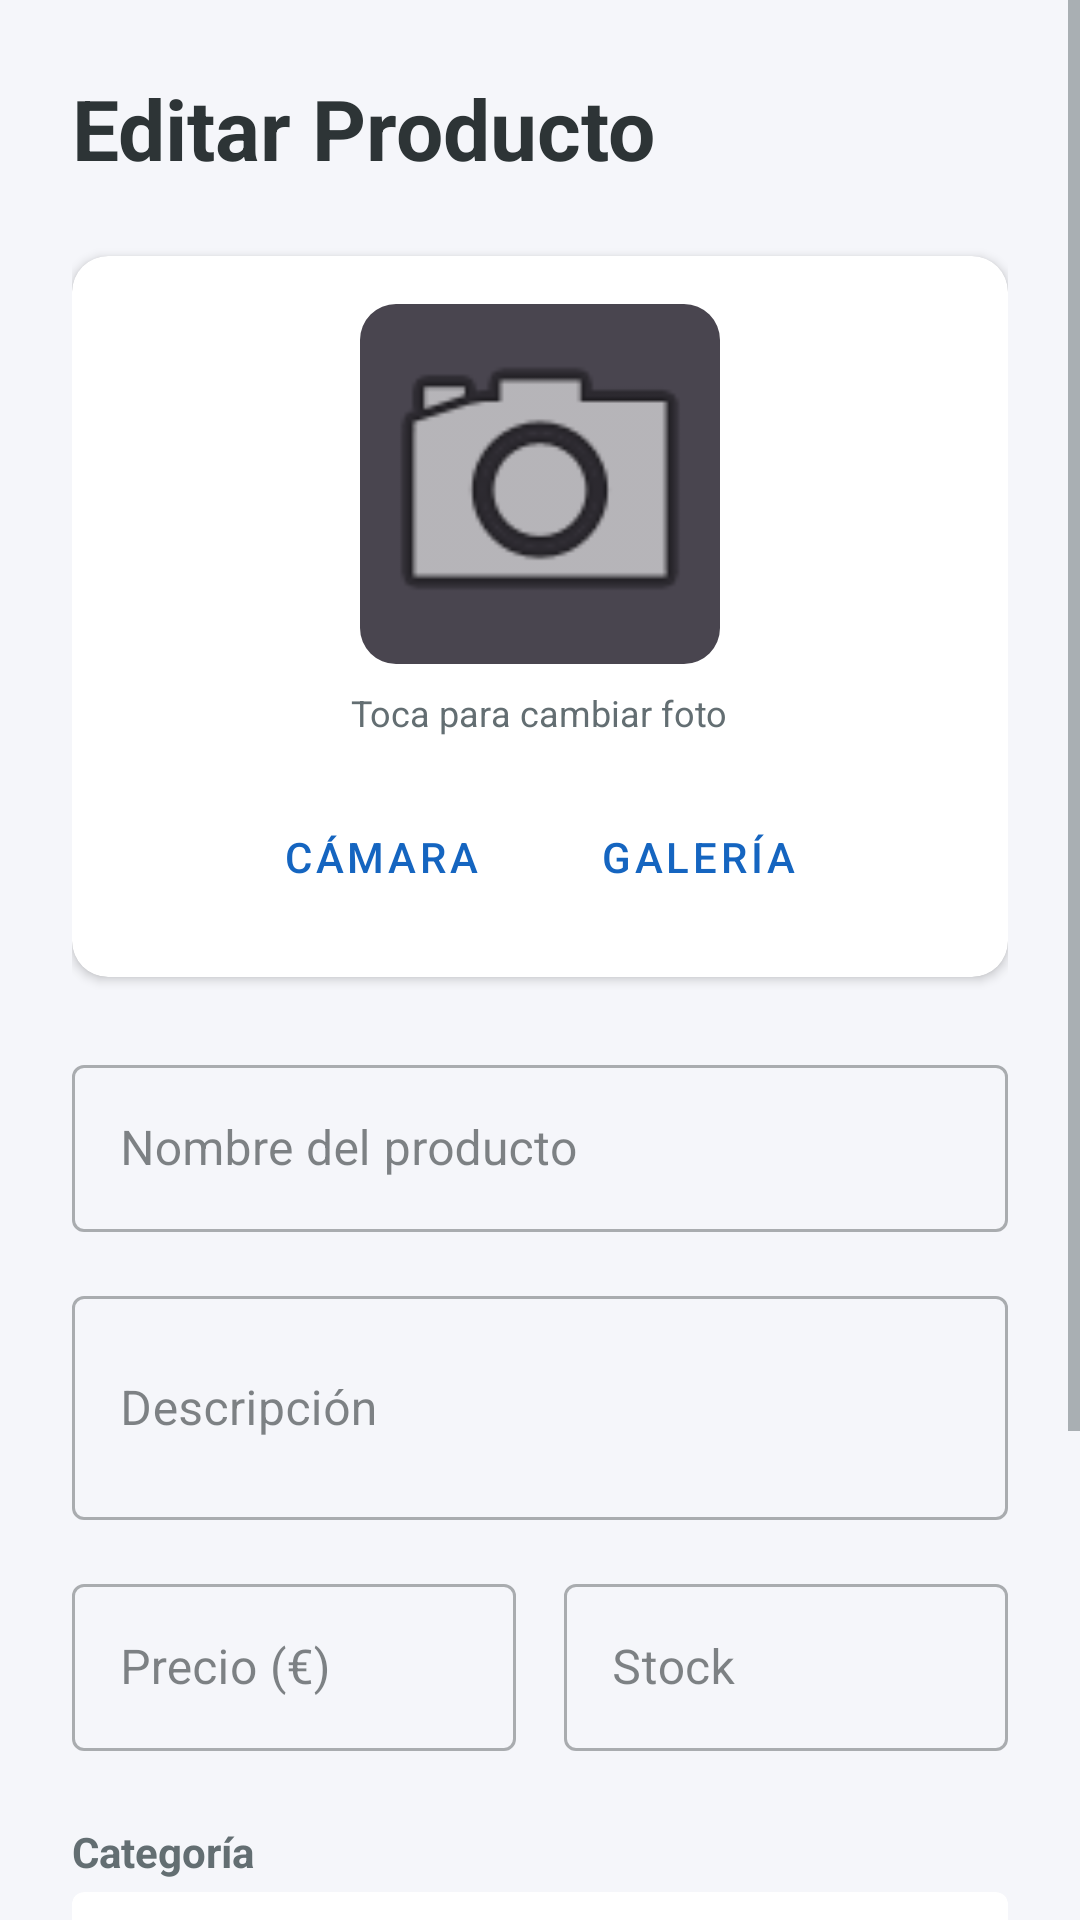

Screen size 1080px×1920px. Icon name, then its box in pixels as (x1, y1, x2, y2):
camera: (360, 304, 720, 664)
